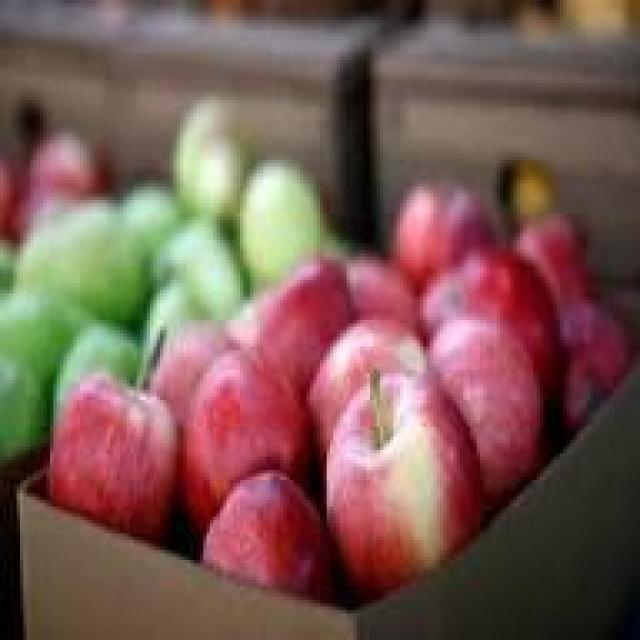apple: (327, 370, 480, 583), (44, 374, 184, 564), (177, 340, 303, 517), (430, 237, 567, 390), (206, 460, 336, 613), (310, 313, 430, 470), (383, 173, 497, 317), (437, 320, 540, 473), (240, 237, 340, 370), (554, 280, 634, 423)
